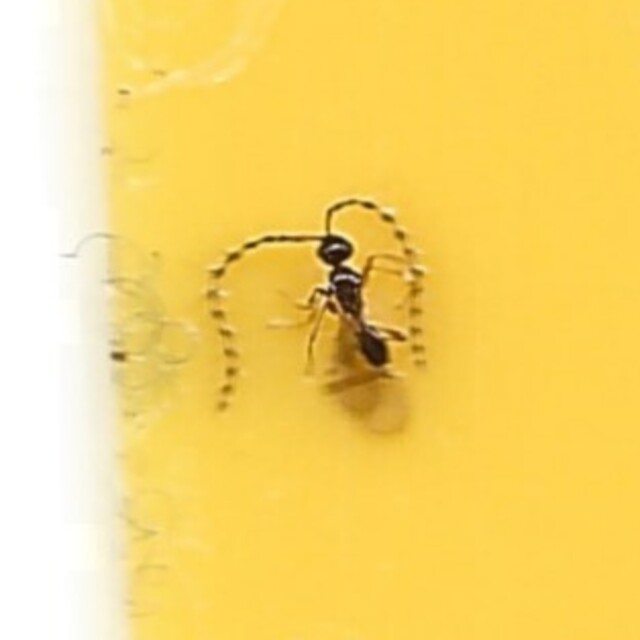Hymenoptera: (204, 193, 436, 447)
